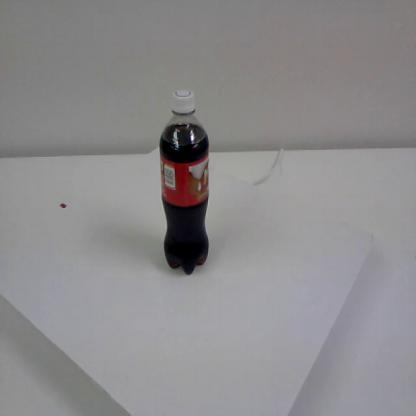bottle: (157, 86, 211, 277)
